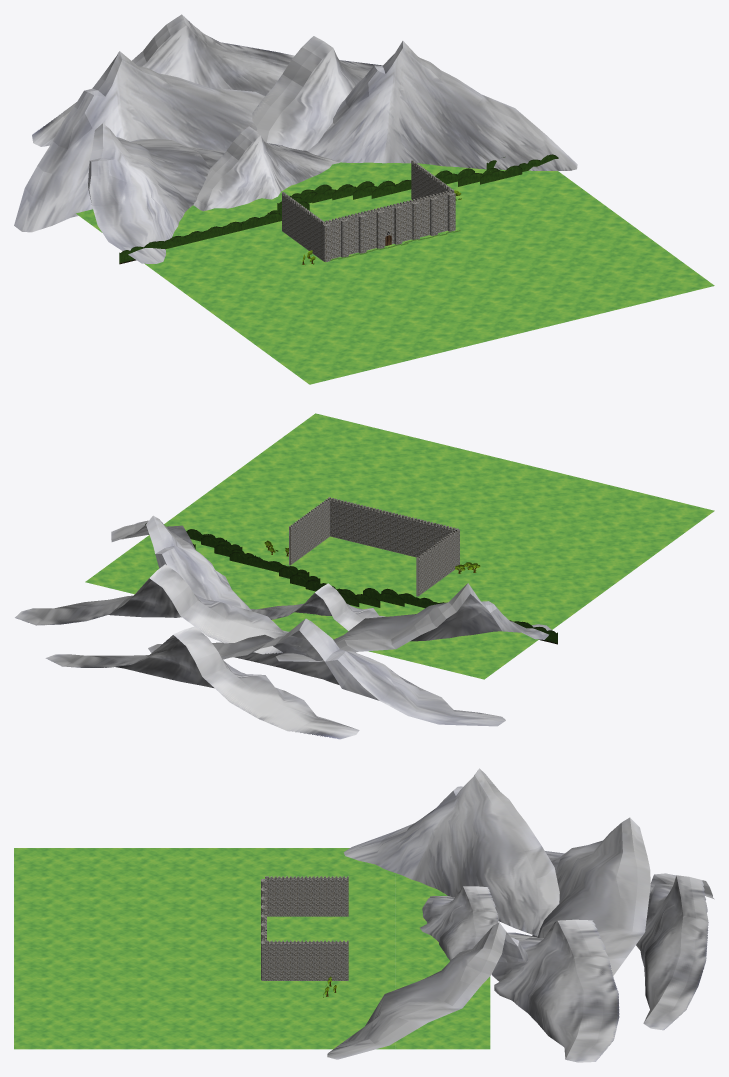
File: 348_bg_barrierB.fbx
The picture shows the model from 3 angles, top to bottom: view 1: azimuth 30°, elevation 25°; view 2: azimuth 150°, elevation 25°; view 3: azimuth 270°, elevation 25°; orthographic projection. The views are drawn at different scales.
Visible parts, largest first — view 1: pPlane459, polySurface1, polySurface17, polySurface18, Sekisyo, polySurface19, polySurface20, polySurface16; view 2: pPlane459, polySurface20, polySurface17, Sekisyo, polySurface19, polySurface18, polySurface1, polySurface16; view 3: pPlane459, polySurface18, polySurface19, polySurface17, polySurface20, polySurface1, Sekisyo, polySurface16.
Boxes of the visible parts, <box> form: pPlane459: <box>76,162,714,384</box>; polySurface1: <box>307,41,577,170</box>; polySurface17: <box>14,51,264,232</box>; polySurface18: <box>88,123,225,263</box>; Sekisyo: <box>282,160,455,261</box>; polySurface19: <box>252,36,382,150</box>; polySurface20: <box>32,14,294,146</box>; polySurface16: <box>193,126,340,211</box>; pPlane459: <box>85,413,714,679</box>; polySurface20: <box>45,626,359,739</box>; polySurface17: <box>148,618,505,726</box>; Sekisyo: <box>289,497,459,596</box>; polySurface19: <box>15,564,288,654</box>; polySurface18: <box>276,583,552,661</box>; polySurface1: <box>111,515,251,610</box>; polySurface16: <box>251,583,385,630</box>; pPlane459: <box>14,848,490,1049</box>; polySurface18: <box>343,768,559,936</box>; polySurface19: <box>492,919,619,1062</box>; polySurface17: <box>532,817,650,975</box>; polySurface20: <box>636,873,714,1030</box>; polySurface1: <box>327,922,528,1059</box>; Sekisyo: <box>261,876,348,980</box>; polySurface16: <box>420,886,498,960</box>.
Size of the model in its own units: 5925 by 1335 by 7606.
